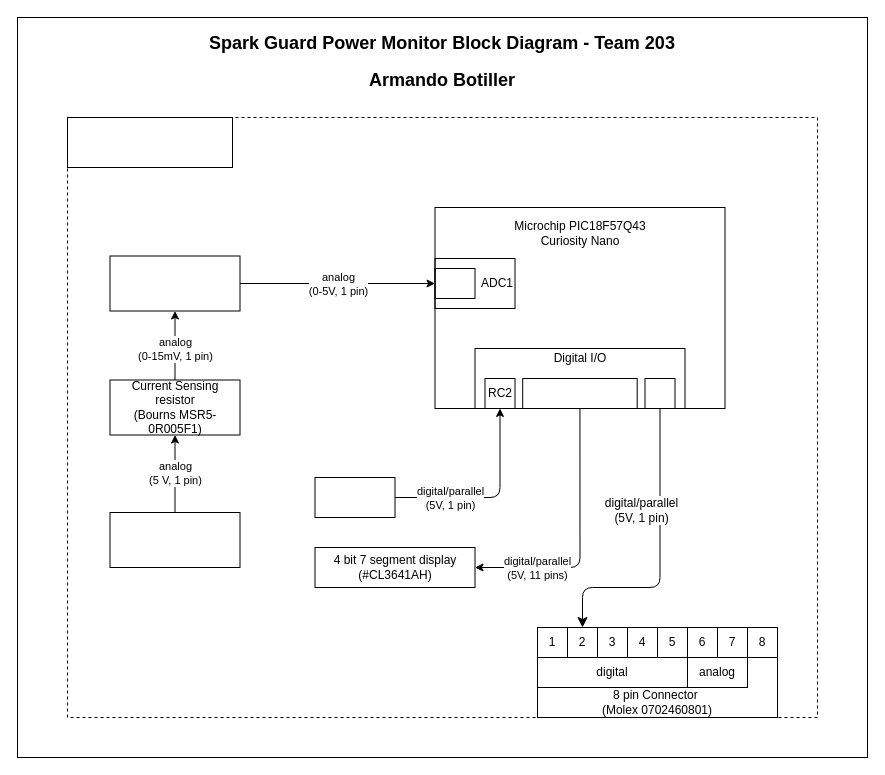
The diagram is 885 pixels wide and 775 high, and some of its shapes have lost their labels. The centre of each missing label's shape, as x and y in pixels:
5 V 3 A USB power output (GCT USB1130-15-A): (174,540)
5V Linear Regulator (Texas Instruments LM1085IT-5.0): (149,142)
Op Amp (Microhchip MCP6004): (174,283)
Pushbutton 1: (354,497)
RA0: (454,283)
RC3-RD4, RA3-RC7: (579,393)
RD0: (659,393)
